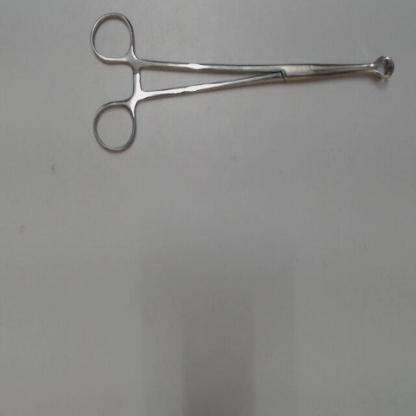8 Babcock Tissue Forceps: (85, 5, 401, 160)
